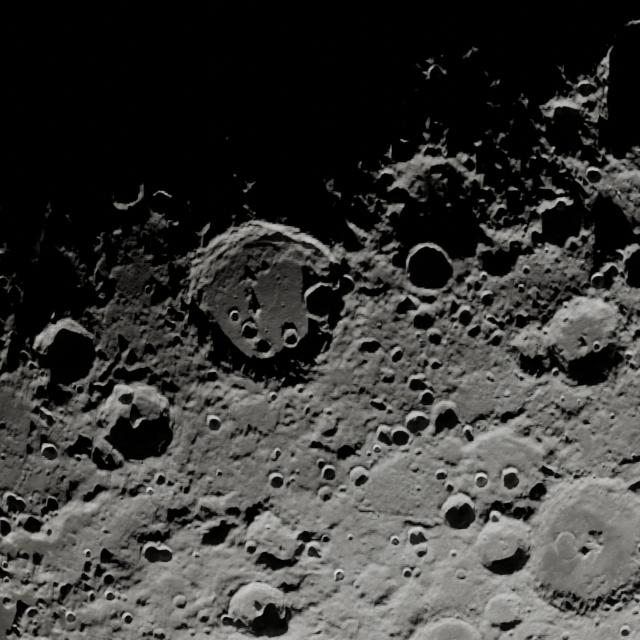crater: (178, 221, 358, 388), (522, 485, 640, 618), (549, 293, 627, 392), (104, 383, 180, 468), (32, 317, 102, 395), (474, 519, 536, 576), (229, 581, 291, 638), (403, 240, 452, 295), (305, 279, 344, 323), (434, 496, 478, 531), (429, 401, 463, 435), (379, 426, 411, 449), (250, 336, 279, 361), (404, 411, 428, 438), (236, 318, 262, 341), (408, 309, 437, 329), (144, 546, 174, 565), (452, 306, 476, 328), (472, 468, 494, 492), (38, 444, 64, 463), (114, 382, 134, 406), (501, 467, 521, 491), (582, 166, 604, 186), (348, 468, 368, 488), (476, 290, 498, 308), (318, 467, 342, 483), (204, 416, 226, 433), (268, 473, 286, 491), (284, 326, 298, 349)
rock: (574, 527, 600, 566)
